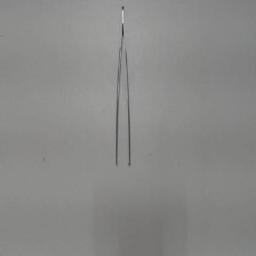Gillies Toothed Dissector: (113, 2, 133, 170)
